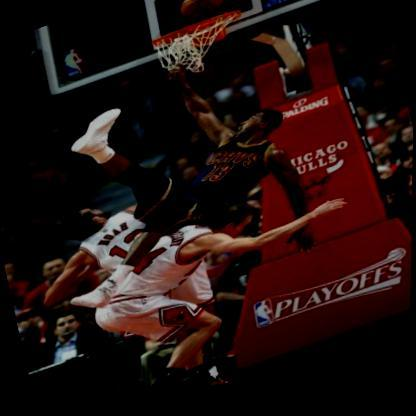basketball: (177, 0, 228, 31)
rim: (150, 13, 250, 85)
